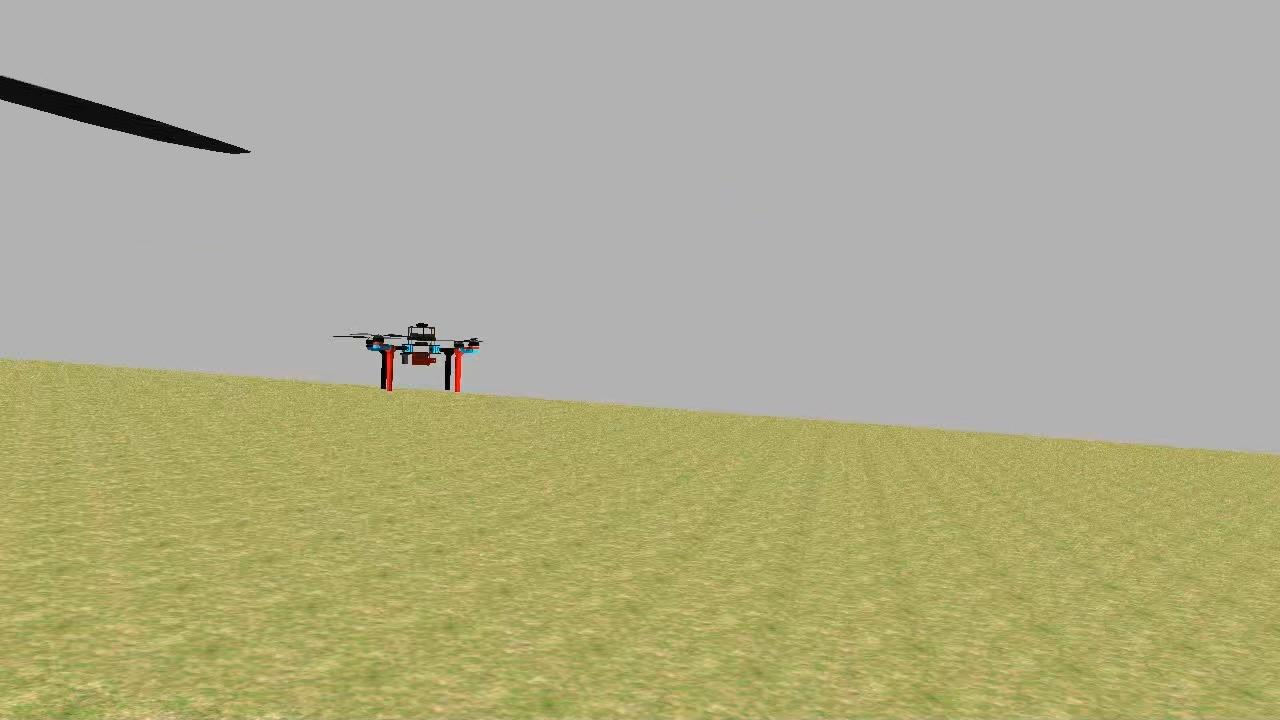UAV: (361, 314, 483, 403)
